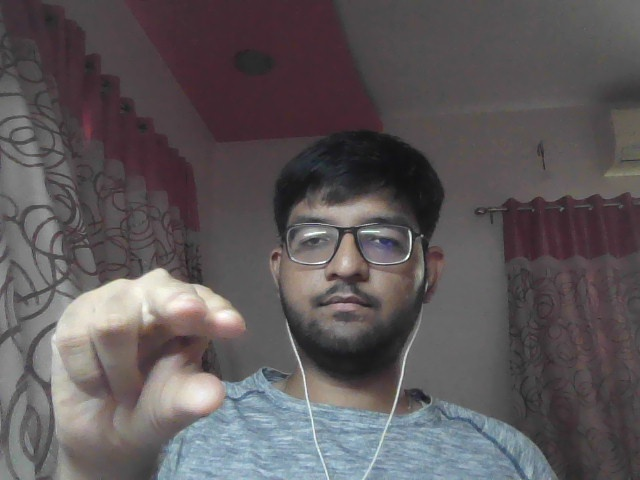ના: (42, 262, 258, 474)
